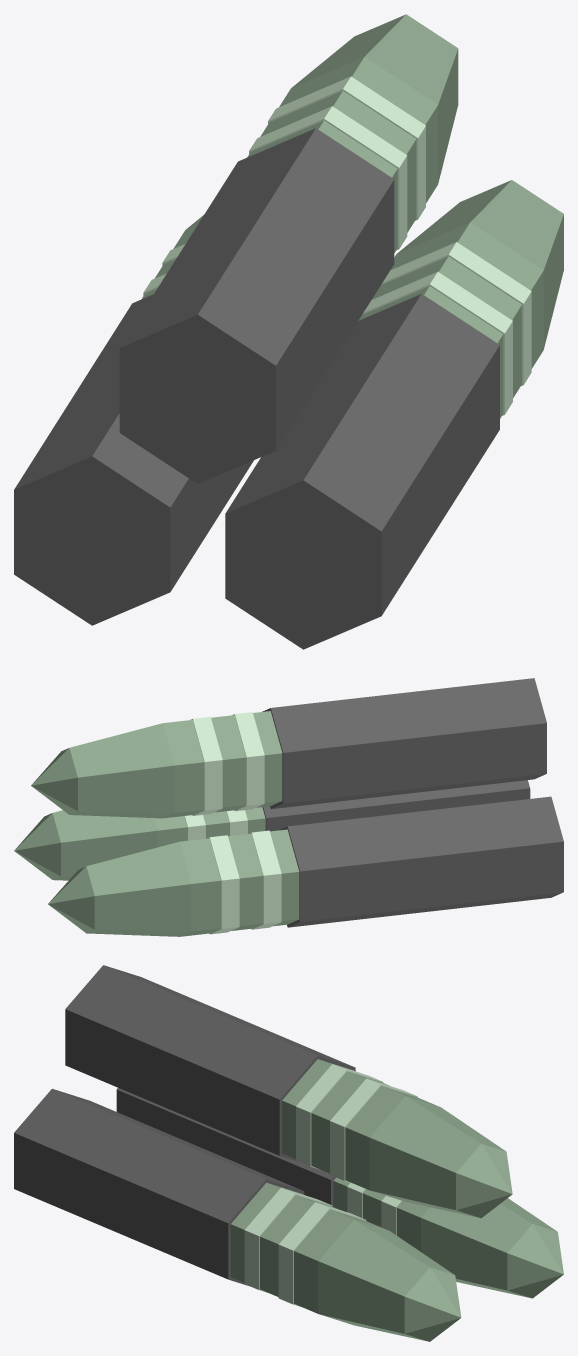
Rendered from ce_ammo2_rcl84_smk_b.obj.
The picture shows the model from 3 angles, top to bottom: view 1: azimuth 30°, elevation 25°; view 2: azimuth 150°, elevation 25°; view 3: azimuth 270°, elevation 25°; orthographic projection. The views are drawn at different scales.
Visible parts, largest first — view 1: ce_ammo2_rcl84_smk_b_16, ce_ammo2_rcl84_smk_b_8, ce_ammo2_rcl84_smk_b_0, ce_ammo2_rcl84_smk_b_14, ce_ammo2_rcl84_smk_b_22, ce_ammo2_rcl84_smk_b_13, ce_ammo2_rcl84_smk_b_21, ce_ammo2_rcl84_smk_b_19, ce_ammo2_rcl84_smk_b_18, ce_ammo2_rcl84_smk_b_20, ce_ammo2_rcl84_smk_b_11, ce_ammo2_rcl84_smk_b_10 (+3 smaller); view 2: ce_ammo2_rcl84_smk_b_0, ce_ammo2_rcl84_smk_b_16, ce_ammo2_rcl84_smk_b_6, ce_ammo2_rcl84_smk_b_22, ce_ammo2_rcl84_smk_b_8, ce_ammo2_rcl84_smk_b_14, ce_ammo2_rcl84_smk_b_5, ce_ammo2_rcl84_smk_b_21, ce_ammo2_rcl84_smk_b_19, ce_ammo2_rcl84_smk_b_3, ce_ammo2_rcl84_smk_b_4, ce_ammo2_rcl84_smk_b_2 (+12 smaller); view 3: ce_ammo2_rcl84_smk_b_16, ce_ammo2_rcl84_smk_b_8, ce_ammo2_rcl84_smk_b_22, ce_ammo2_rcl84_smk_b_14, ce_ammo2_rcl84_smk_b_6, ce_ammo2_rcl84_smk_b_0, ce_ammo2_rcl84_smk_b_15, ce_ammo2_rcl84_smk_b_7, ce_ammo2_rcl84_smk_b_23, ce_ammo2_rcl84_smk_b_21, ce_ammo2_rcl84_smk_b_13, ce_ammo2_rcl84_smk_b_11 (+11 smaller).
Part boxes in pixels (bbox=[...]): ce_ammo2_rcl84_smk_b_16: bbox=[119, 128, 394, 483]; ce_ammo2_rcl84_smk_b_8: bbox=[225, 293, 499, 649]; ce_ammo2_rcl84_smk_b_0: bbox=[14, 294, 253, 625]; ce_ammo2_rcl84_smk_b_14: bbox=[397, 180, 563, 349]; ce_ammo2_rcl84_smk_b_22: bbox=[292, 14, 458, 183]; ce_ammo2_rcl84_smk_b_13: bbox=[390, 222, 543, 368]; ce_ammo2_rcl84_smk_b_21: bbox=[279, 57, 437, 202]; ce_ammo2_rcl84_smk_b_19: bbox=[260, 91, 416, 232]; ce_ammo2_rcl84_smk_b_18: bbox=[249, 106, 407, 249]; ce_ammo2_rcl84_smk_b_20: bbox=[268, 76, 425, 220]; ce_ammo2_rcl84_smk_b_11: bbox=[372, 256, 521, 397]; ce_ammo2_rcl84_smk_b_10: bbox=[362, 271, 512, 415]; ce_ammo2_rcl84_smk_b_0: bbox=[279, 796, 563, 927]; ce_ammo2_rcl84_smk_b_16: bbox=[262, 678, 546, 808]; ce_ammo2_rcl84_smk_b_6: bbox=[86, 841, 191, 936]; ce_ammo2_rcl84_smk_b_22: bbox=[69, 723, 174, 818]; ce_ammo2_rcl84_smk_b_8: bbox=[262, 780, 530, 831]; ce_ammo2_rcl84_smk_b_14: bbox=[52, 810, 157, 880]; ce_ammo2_rcl84_smk_b_5: bbox=[180, 838, 221, 936]; ce_ammo2_rcl84_smk_b_21: bbox=[163, 720, 204, 818]; ce_ammo2_rcl84_smk_b_19: bbox=[211, 715, 246, 812]; ce_ammo2_rcl84_smk_b_3: bbox=[228, 833, 263, 930]; ce_ammo2_rcl84_smk_b_4: bbox=[207, 835, 239, 934]; ce_ammo2_rcl84_smk_b_2: bbox=[249, 830, 281, 929]; ce_ammo2_rcl84_smk_b_16: bbox=[65, 965, 355, 1162]; ce_ammo2_rcl84_smk_b_8: bbox=[14, 1088, 304, 1286]; ce_ammo2_rcl84_smk_b_22: bbox=[369, 1096, 505, 1217]; ce_ammo2_rcl84_smk_b_14: bbox=[318, 1219, 454, 1341]; ce_ammo2_rcl84_smk_b_6: bbox=[421, 1198, 556, 1297]; ce_ammo2_rcl84_smk_b_0: bbox=[116, 1088, 335, 1206]; ce_ammo2_rcl84_smk_b_15: bbox=[404, 1267, 461, 1341]; ce_ammo2_rcl84_smk_b_7: bbox=[507, 1224, 563, 1298]; ce_ammo2_rcl84_smk_b_23: bbox=[456, 1143, 512, 1218]; ce_ammo2_rcl84_smk_b_21: bbox=[345, 1086, 439, 1190]; ce_ammo2_rcl84_smk_b_13: bbox=[294, 1209, 387, 1313]; ce_ammo2_rcl84_smk_b_11: bbox=[260, 1195, 338, 1296].
Bounding box in the file's own units: 0.758 × 0.326 × 0.758.
